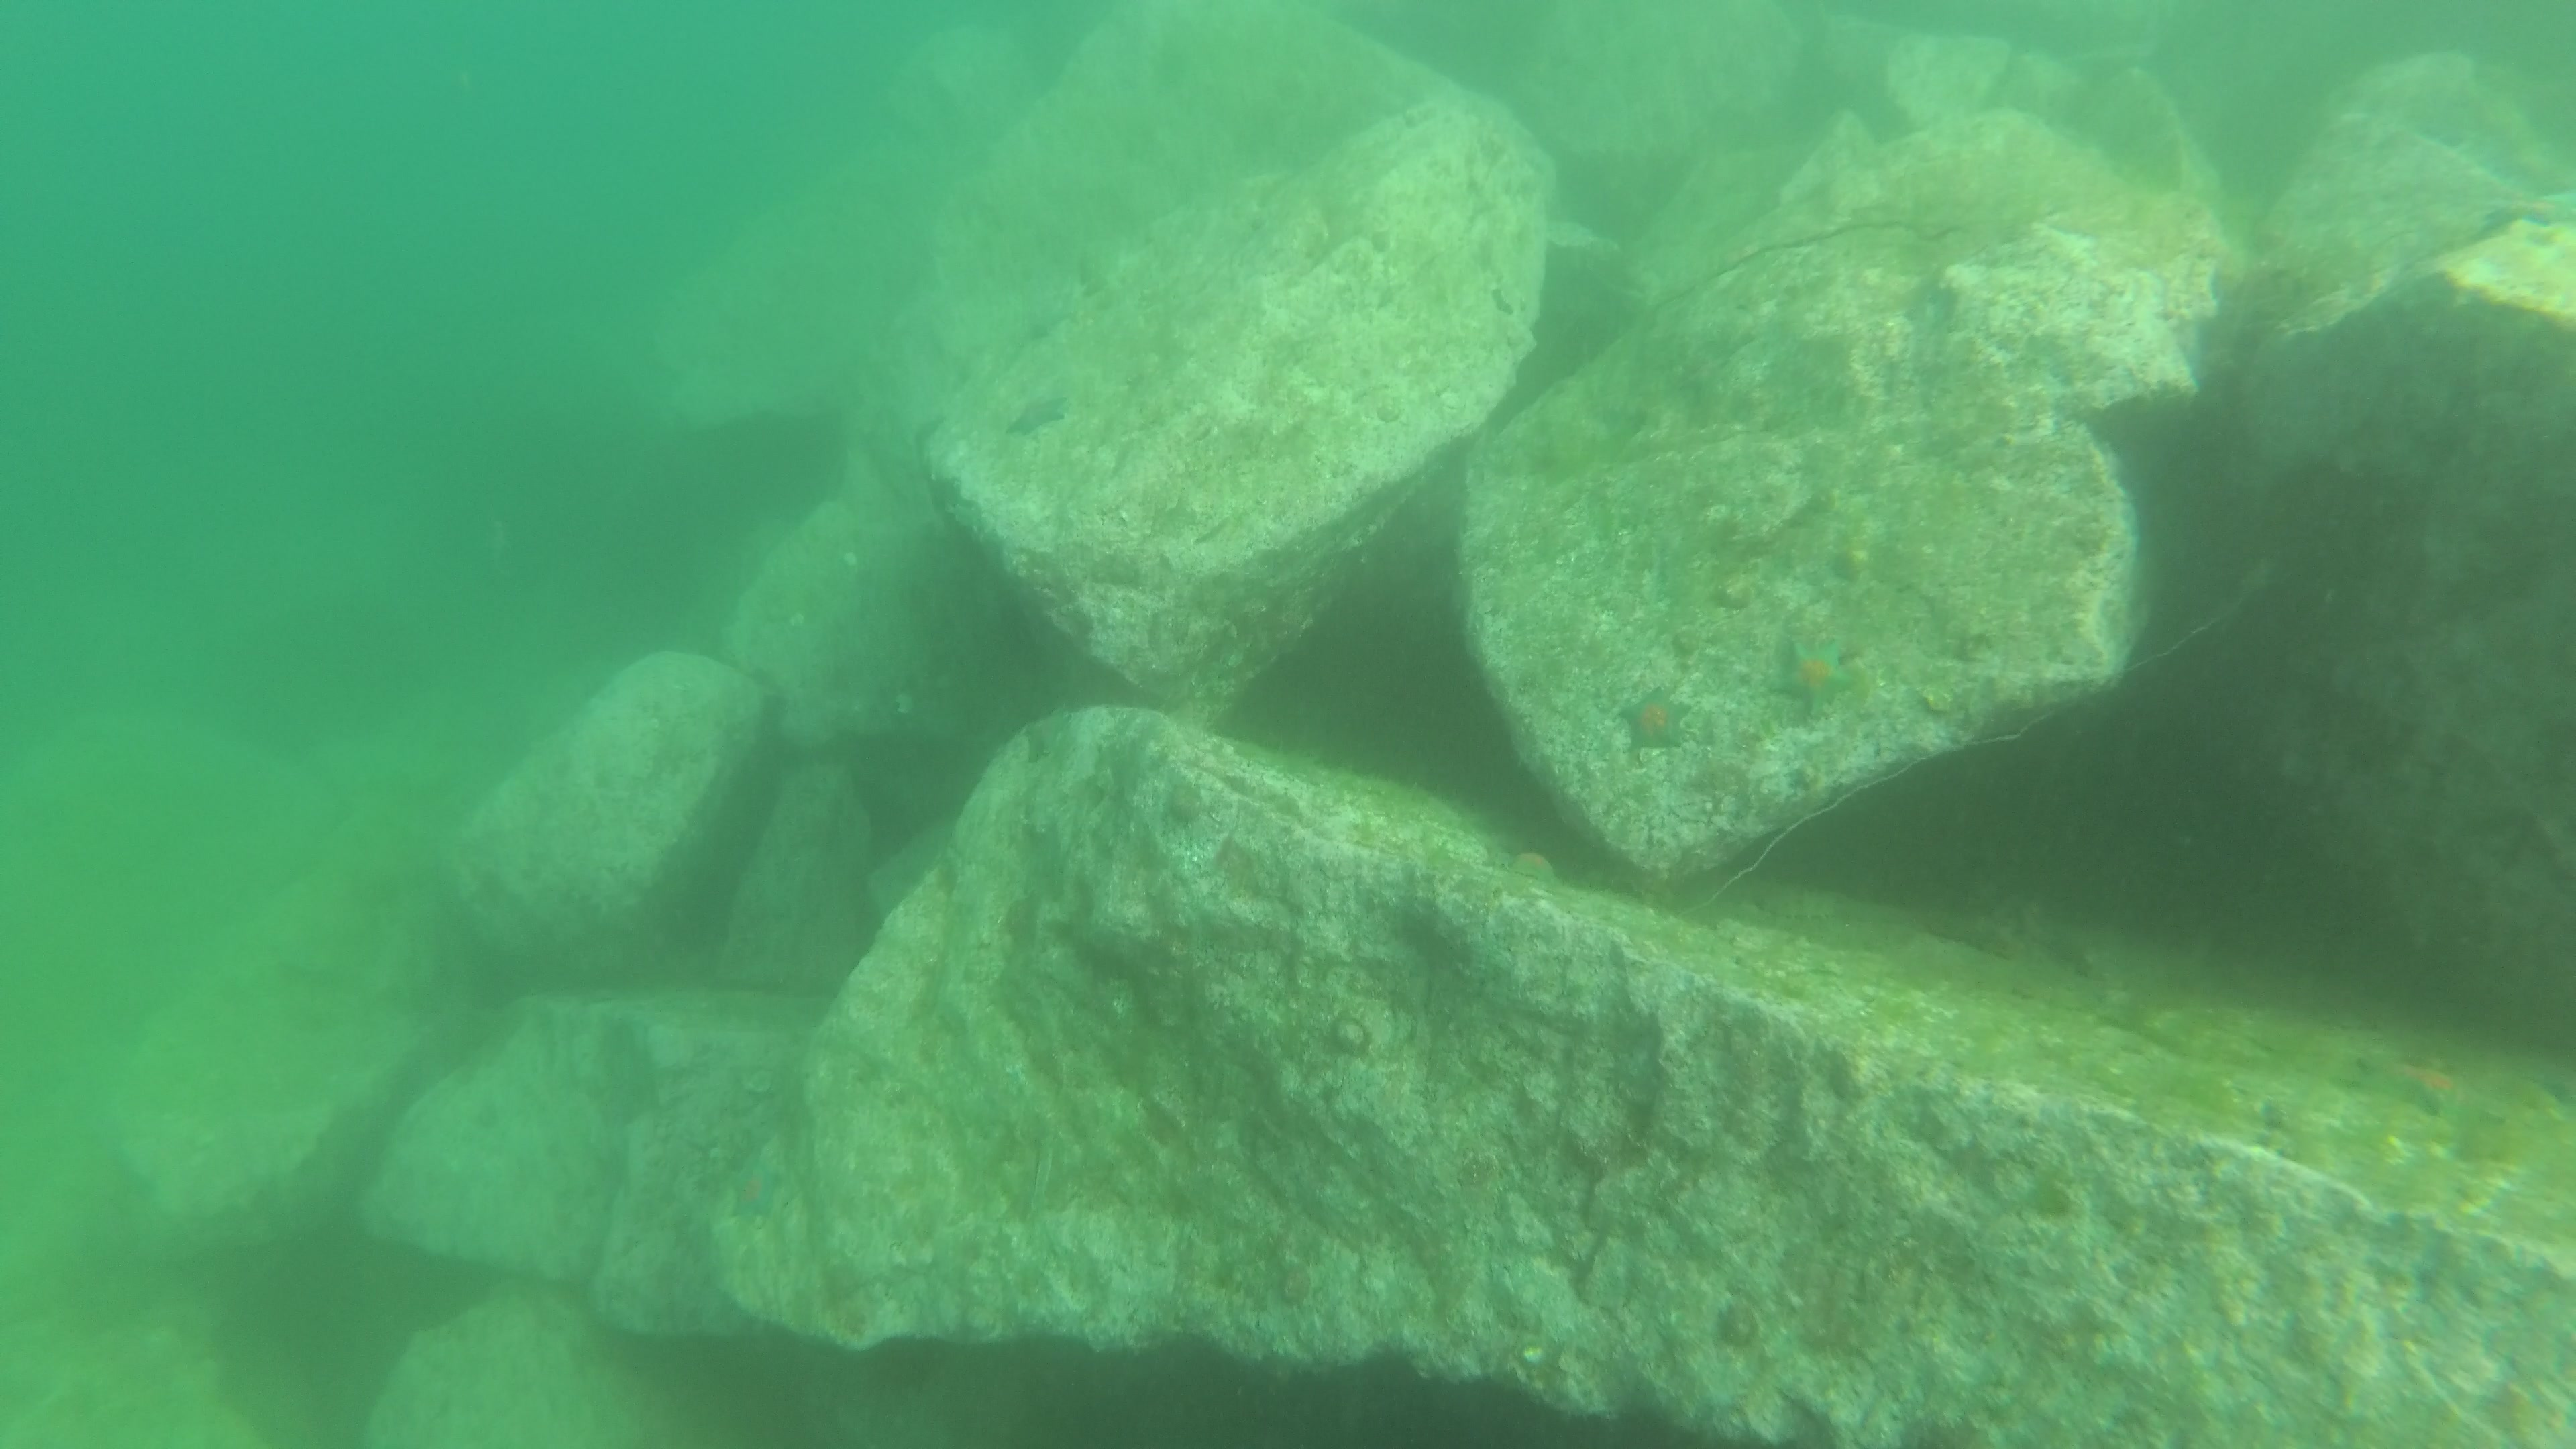starfish: (2360, 1053, 2509, 1125), (1771, 639, 1865, 720), (2466, 182, 2576, 239), (1619, 688, 1693, 755), (725, 1155, 787, 1223), (1493, 842, 1564, 888), (1005, 400, 1067, 439)
